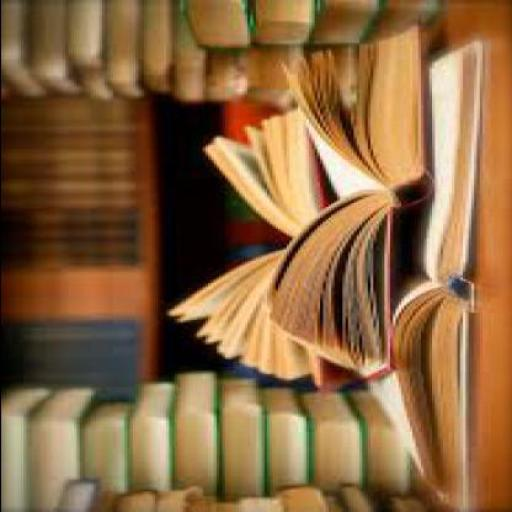paper: (260, 20, 430, 380), (366, 40, 484, 508), (162, 104, 322, 390), (22, 384, 92, 510), (342, 388, 408, 491), (294, 390, 364, 486), (1, 383, 47, 511), (166, 369, 212, 489), (255, 385, 305, 494), (25, 0, 81, 94), (216, 378, 258, 498), (64, 0, 111, 98), (129, 378, 168, 490), (1, 0, 46, 97), (101, 0, 145, 96), (76, 398, 120, 492), (170, 0, 208, 101), (137, 0, 177, 91), (174, 0, 248, 49), (354, 0, 437, 42), (246, 0, 314, 46), (305, 0, 379, 42), (204, 45, 246, 103), (246, 45, 294, 89), (274, 484, 322, 510), (53, 477, 90, 510), (117, 488, 151, 510), (235, 493, 275, 510), (154, 488, 182, 510), (184, 486, 206, 510), (322, 492, 338, 510), (97, 490, 112, 509), (210, 500, 234, 510)
